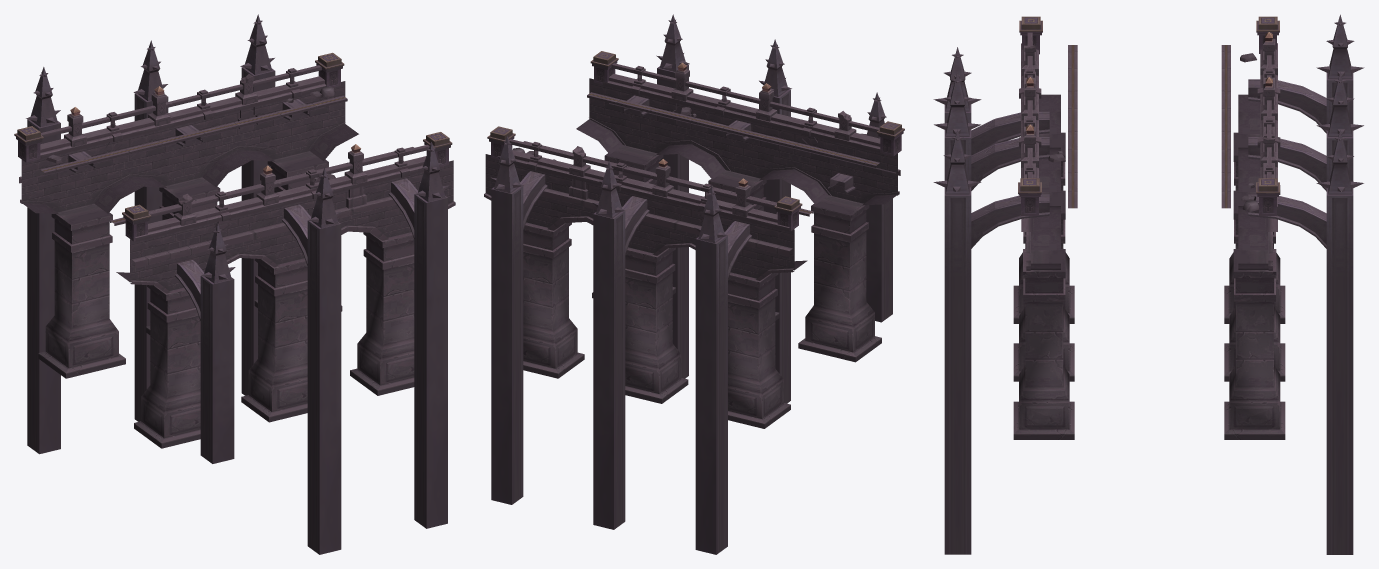
The model's file is SD_xs_zoulang02.FBX.
3 views of the same model, side by side, from view 1: azimuth 30°, elevation 25°; view 2: azimuth 150°, elevation 25°; view 3: azimuth 270°, elevation 25° (orthographic). The views are drawn at different scales.
Parts seen in each view (by area): view 1: SD_xs_zoulang02; view 2: SD_xs_zoulang02; view 3: SD_xs_zoulang02.
Boxes of the visible parts, x1,y1,x2,y2 form: SD_xs_zoulang02: (14,14,455,554); SD_xs_zoulang02: (484,14,904,554); SD_xs_zoulang02: (933,14,1364,554).
Size of the model in its own units: 544 by 607 by 565.
Materials: 1 (1 with a texture image).
